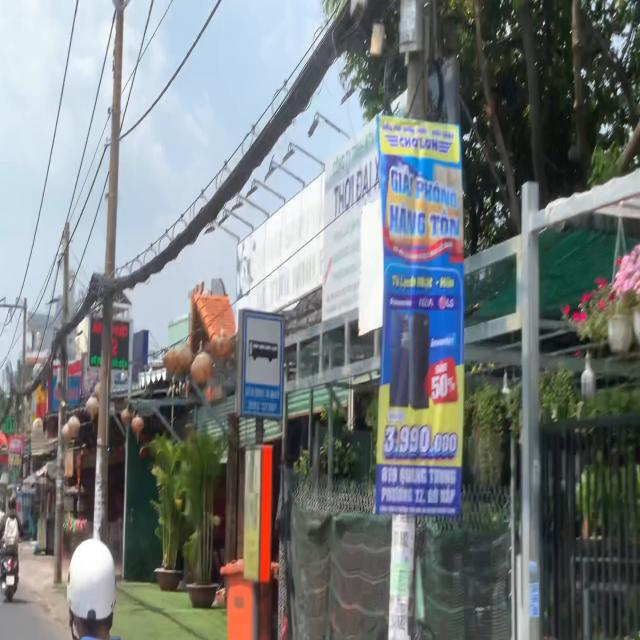Ben xe buyt: (236, 303, 286, 424)
